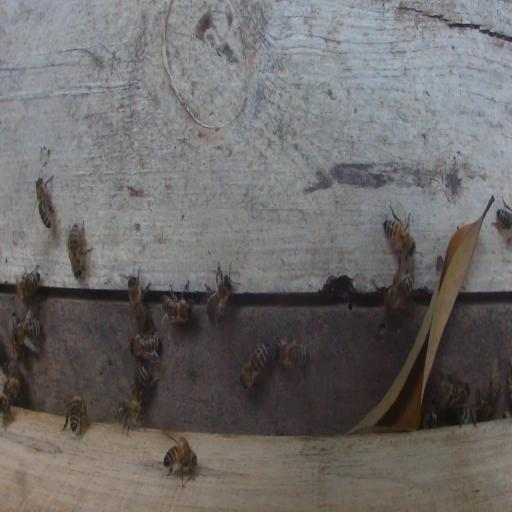bee: (205, 262, 242, 327), (162, 434, 198, 488), (66, 219, 93, 280), (274, 334, 309, 380), (238, 340, 269, 391), (161, 279, 194, 325), (11, 307, 42, 355), (127, 271, 151, 332), (383, 273, 415, 313), (61, 394, 88, 439), (114, 396, 143, 437), (451, 382, 477, 427), (34, 174, 54, 230), (384, 221, 414, 256), (131, 363, 157, 403), (475, 384, 500, 421), (16, 263, 41, 300), (129, 333, 161, 361), (3, 363, 21, 404), (437, 371, 454, 411), (492, 196, 511, 231), (0, 393, 14, 429)
